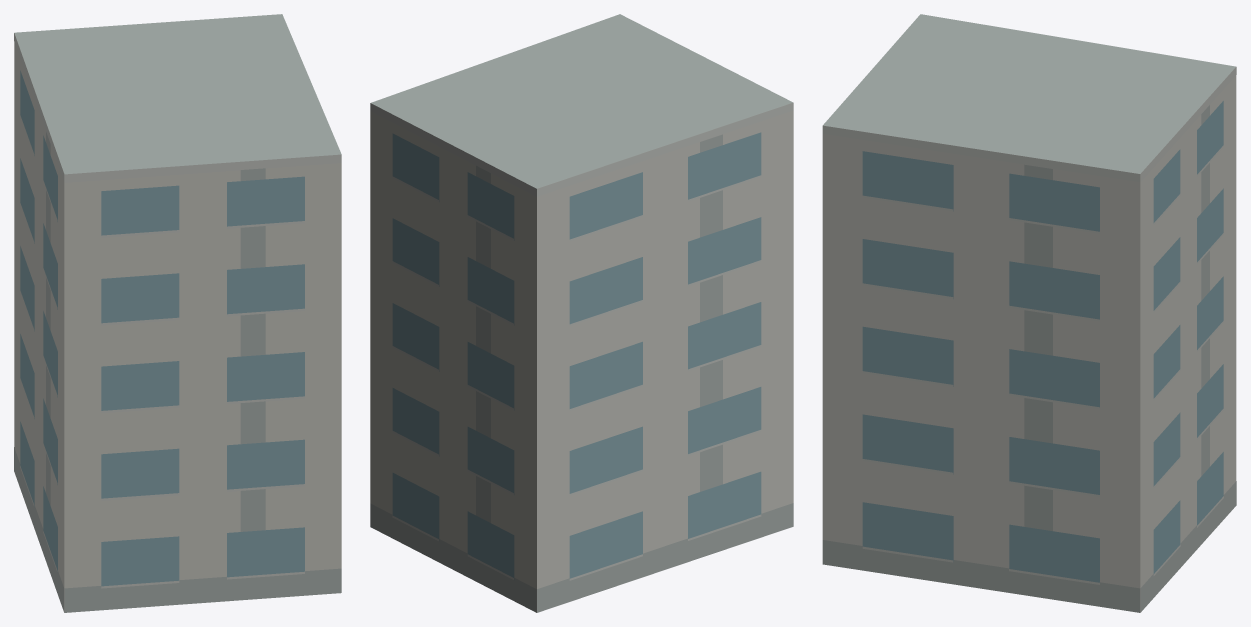
Rendered from survey-upis-32996291.glb.
3 views of the same model, side by side, from view 1: azimuth 30°, elevation 25°; view 2: azimuth 150°, elevation 25°; view 3: azimuth 270°, elevation 25° (orthographic). The views are drawn at different scales.
Parts seen in each view (by area): view 1: survey-upis-32996291.tmp; view 2: survey-upis-32996291.tmp; view 3: survey-upis-32996291.tmp.
Boxes of the visible parts, box(x1,y1,x2,y2) form: survey-upis-32996291.tmp: box(14, 14, 341, 612); survey-upis-32996291.tmp: box(370, 14, 793, 612); survey-upis-32996291.tmp: box(822, 14, 1236, 612).
Size of the model in its own units: 10.02 by 12.8 by 10.95.
